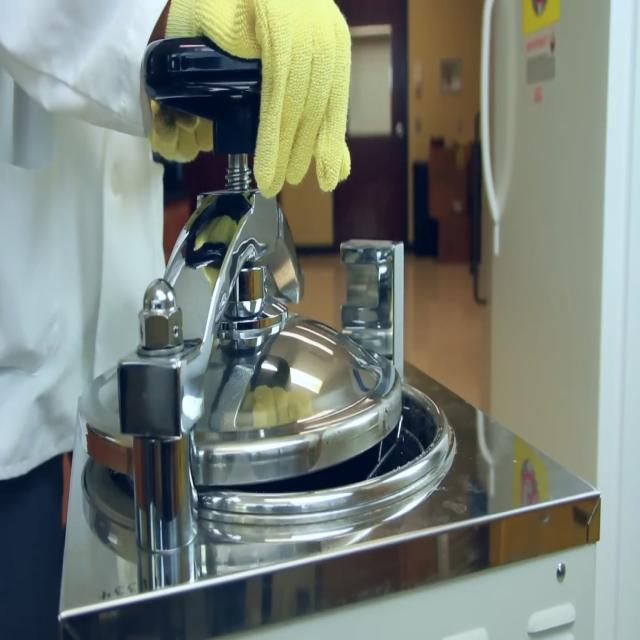labcoat: (0, 0, 179, 498)
